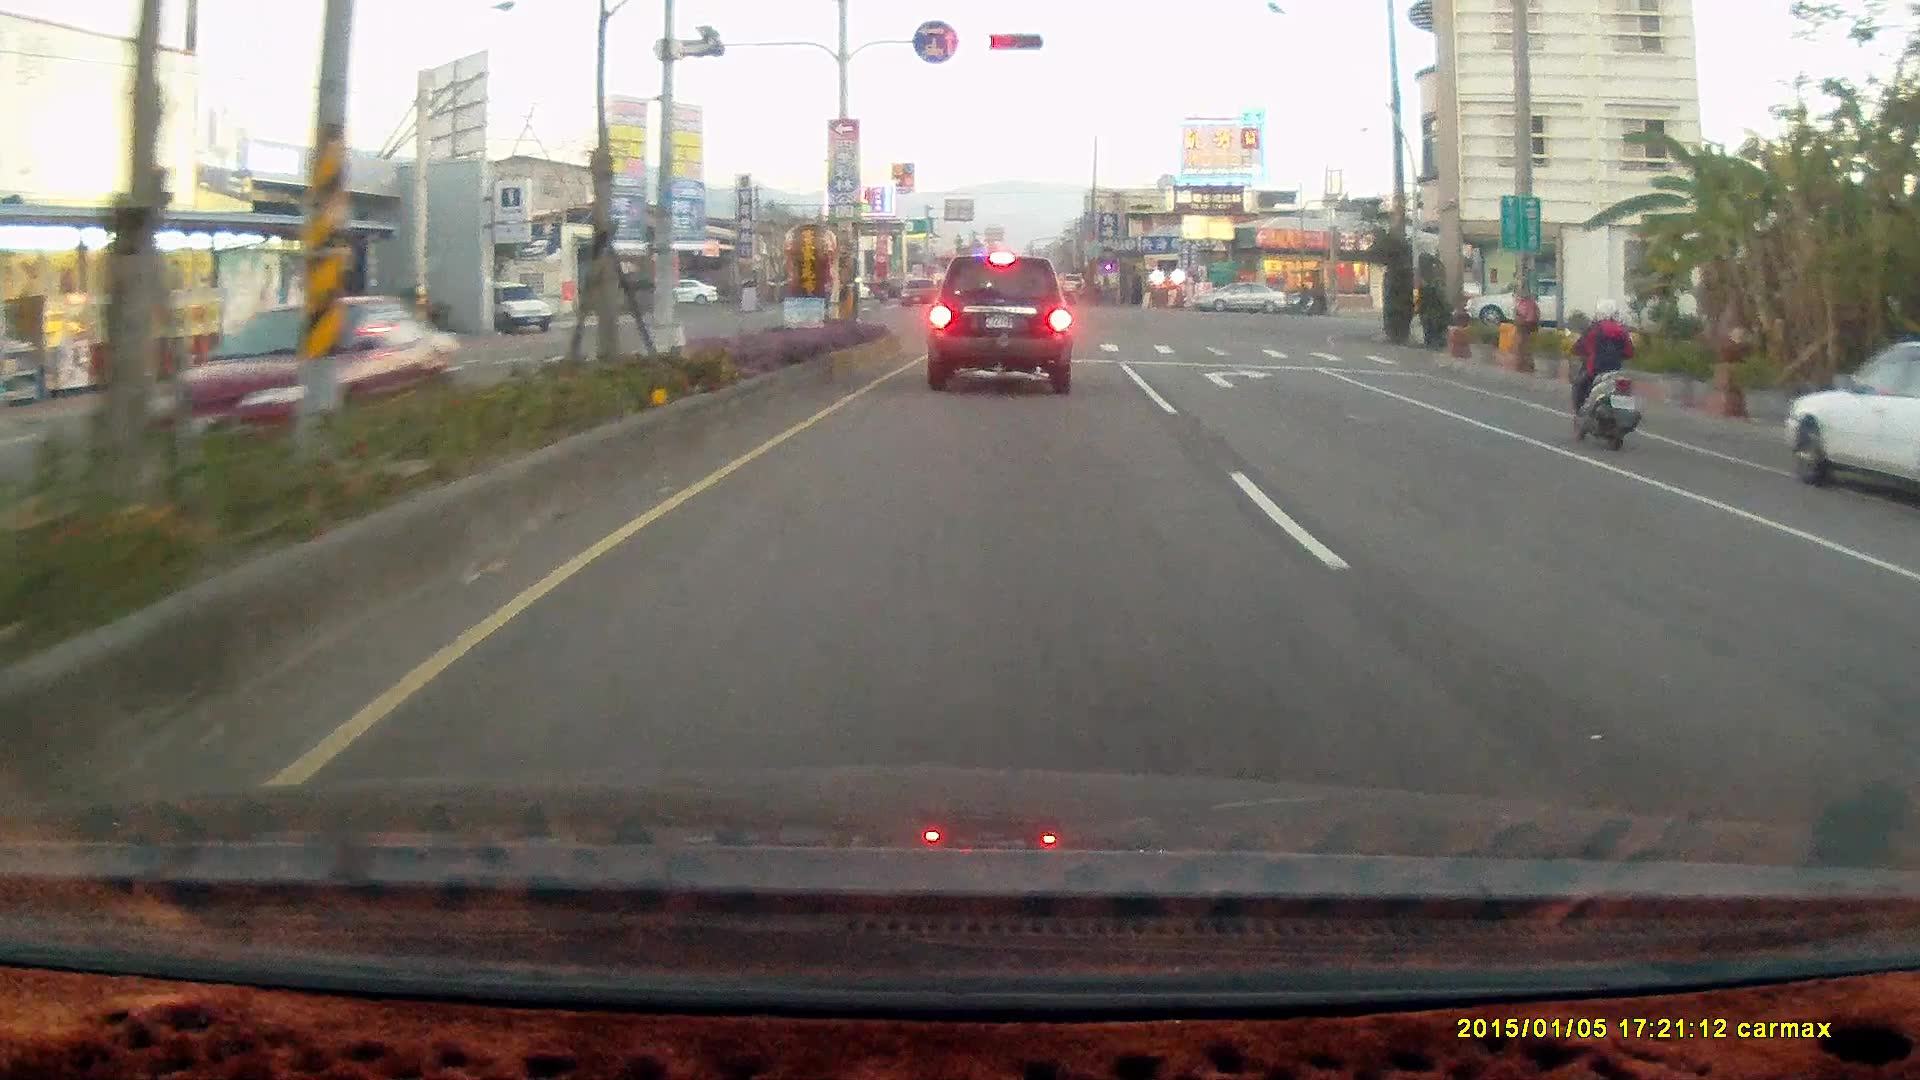rider: (1560, 294, 1642, 450), (1286, 279, 1315, 316)
vehicle: (1781, 342, 1920, 509), (926, 254, 1074, 395), (1896, 493, 1920, 836), (1463, 274, 1586, 331), (1883, 528, 1920, 690), (481, 281, 554, 334), (1190, 280, 1289, 316), (1189, 280, 1288, 315)
